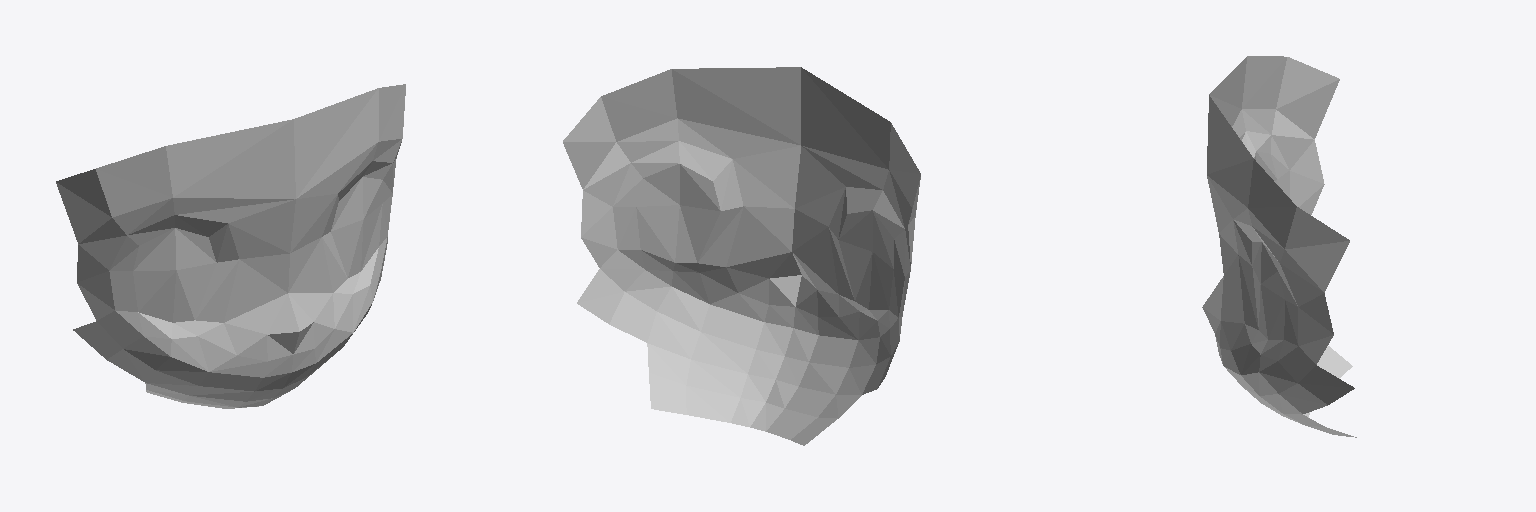
File: kei face.obj
The picture shows the model from 3 angles: view 1: azimuth 30°, elevation 25°; view 2: azimuth 150°, elevation 25°; view 3: azimuth 270°, elevation 25°; orthographic projection.
Parts seen in each view (by area): view 1: model459.003; view 2: model459.003; view 3: model459.003.
Boxes of the visible parts, x1,y1,x2,y2 form: model459.003: [56, 84, 405, 408]; model459.003: [563, 67, 920, 445]; model459.003: [1202, 56, 1356, 437].
Size of the model in its own units: 2.73 by 2.49 by 1.08.